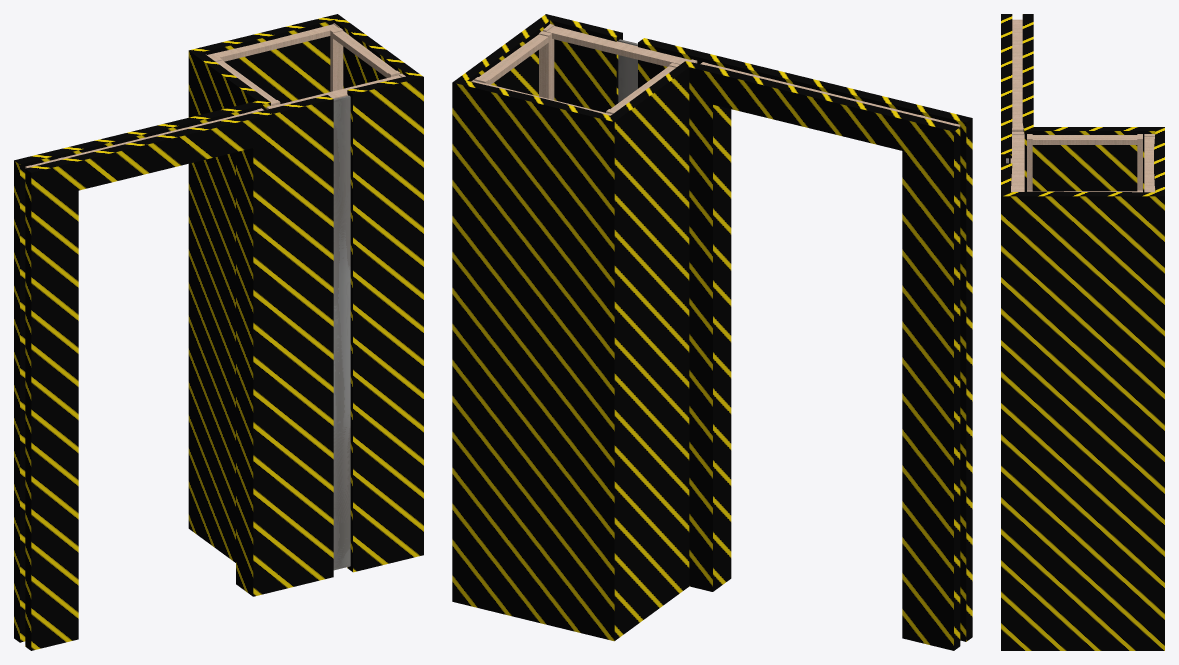
File: WALLSET_J.FBX
3 views of the same model, side by side, from view 1: azimuth 30°, elevation 25°; view 2: azimuth 150°, elevation 25°; view 3: azimuth 270°, elevation 25° (orthographic). The views are drawn at different scales.
Parts seen in each view (by area): view 1: SELECTOR_03, DRYWALL_24, FRAME_185; view 2: SELECTOR_03, FRAME_185, DRYWALL_24; view 3: SELECTOR_03, FRAME_185.
Boxes of the visible parts, x1,y1,x2,y2 form: SELECTOR_03: (14,14,423,650); DRYWALL_24: (333,95,350,570); FRAME_185: (25,23,405,168); SELECTOR_03: (452,14,972,650); FRAME_185: (471,24,960,126); DRYWALL_24: (618,39,637,102); SELECTOR_03: (1001,14,1164,650); FRAME_185: (1010,19,1154,192).
Size of the model in its own units: 77.63 by 90.28 by 29.5.
